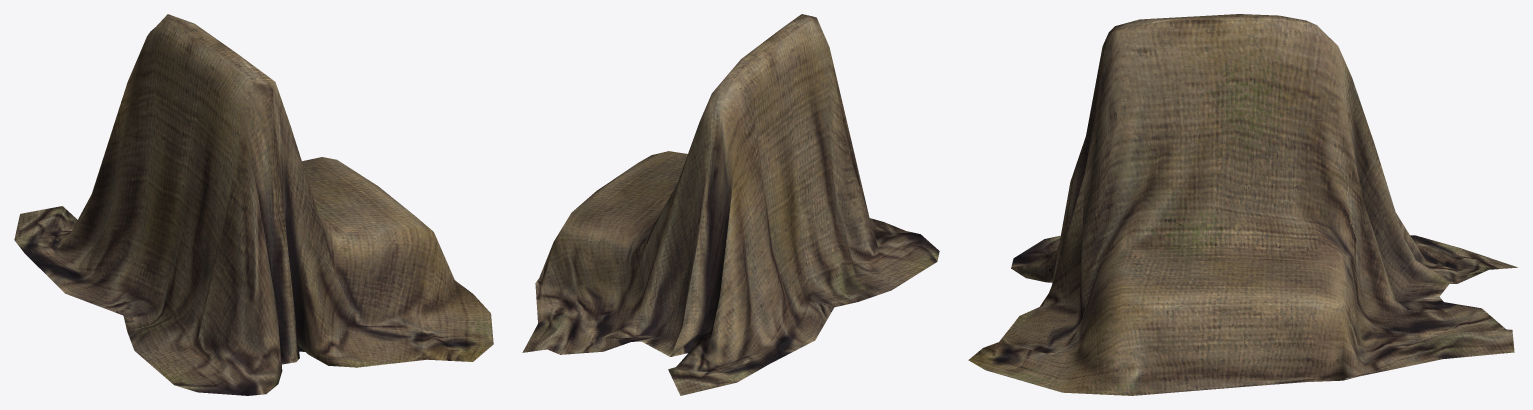
The model's file is covered_chair.FBX.
The picture shows the model from 3 angles, left to right: view 1: azimuth 30°, elevation 25°; view 2: azimuth 150°, elevation 25°; view 3: azimuth 270°, elevation 25°; orthographic projection. The views are drawn at different scales.
Parts seen in each view (by area): view 1: covered_chair; view 2: covered_chair; view 3: covered_chair.
Boxes of the visible parts, x1,y1,x2,y2 form: covered_chair: (14,14,493,395); covered_chair: (522,14,939,395); covered_chair: (968,14,1517,395).
Bounding box in the file's own units: 48.87 × 40.38 × 71.7.
